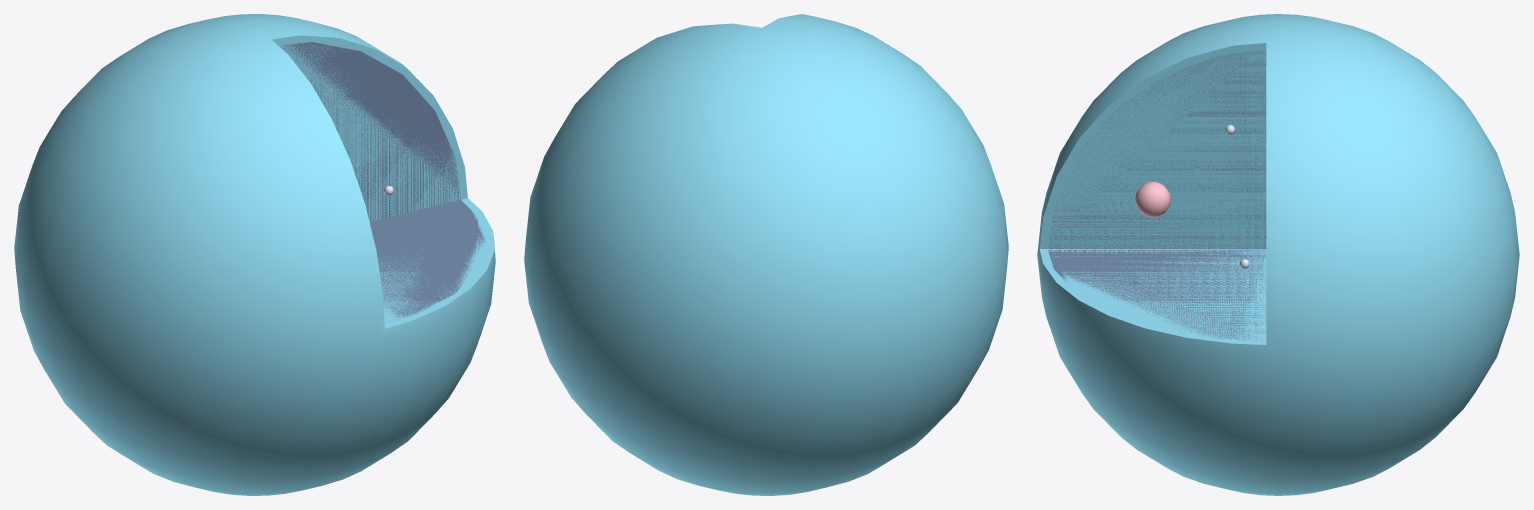
The model's file is cell.glb.
3 views of the same model, side by side, from view 1: azimuth 30°, elevation 25°; view 2: azimuth 150°, elevation 25°; view 3: azimuth 270°, elevation 25° (orthographic).
Visible parts, largest first — view 1: cell_membrane, cytosol; view 2: cell_membrane; view 3: cell_membrane, cytosol, lysosome.
Boxes of the visible parts, x1=… form: cell_membrane: x1=14, y1=14, x2=495, y2=495; cytosol: x1=281, y1=42, x2=485, y2=321; cell_membrane: x1=524, y1=14, x2=1008, y2=495; cell_membrane: x1=1037, y1=14, x2=1519, y2=495; cytosol: x1=1048, y1=50, x2=1266, y2=340; lysosome: x1=1135, y1=181, x2=1170, y2=217.
Size of the model in its own units: 2 by 2 by 2.
